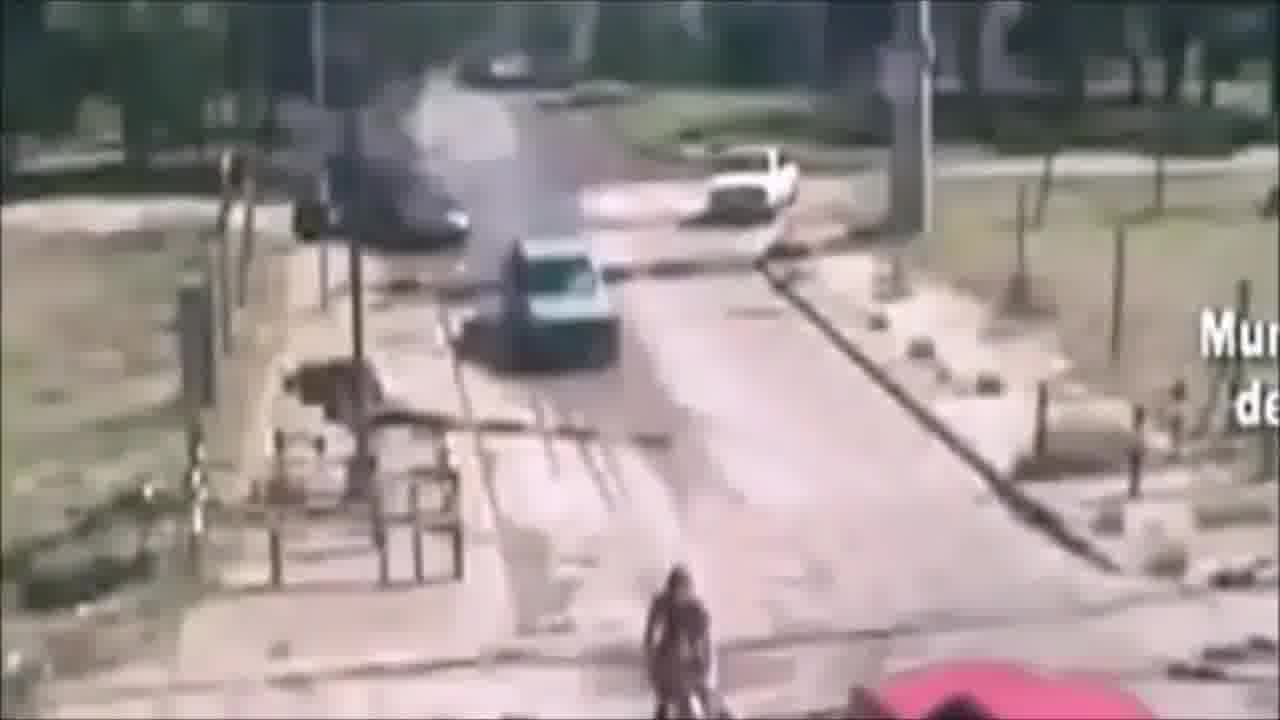crossing railway track: (606, 534, 768, 720)
